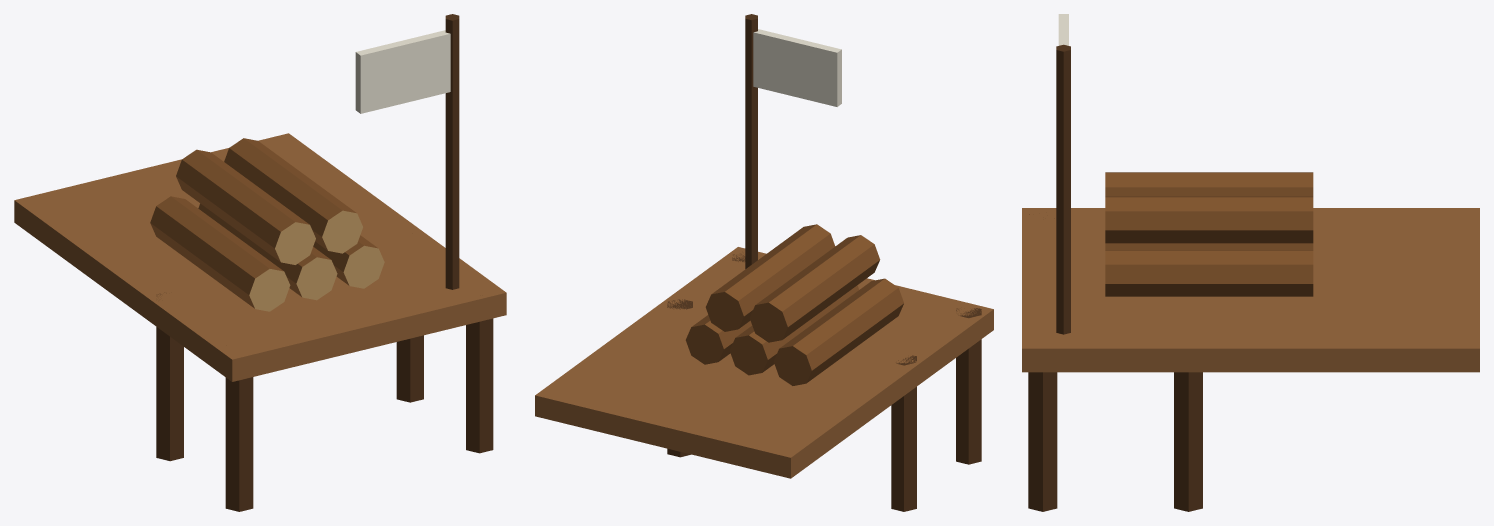
File: wood.obj
The picture shows the model from 3 angles, left to right: view 1: azimuth 30°, elevation 25°; view 2: azimuth 150°, elevation 25°; view 3: azimuth 270°, elevation 25°; orthographic projection. The views are drawn at different scales.
Parts seen in each view (by area): view 1: wood; view 2: wood; view 3: wood.
Boxes of the visible parts, left/top/right/bottom form: wood: left=14, top=14, right=506, bottom=511; wood: left=535, top=14, right=993, bottom=511; wood: left=1022, top=14, right=1479, bottom=511.
Size of the model in its own units: 0.32 by 0.475 by 0.44.
